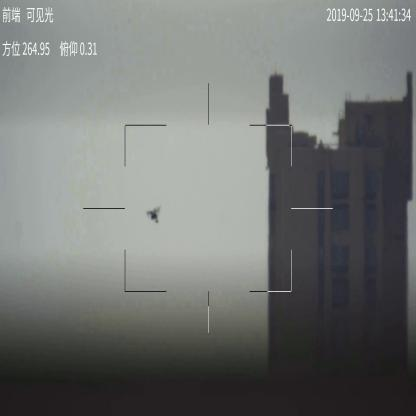uav: (144, 204, 163, 224)
